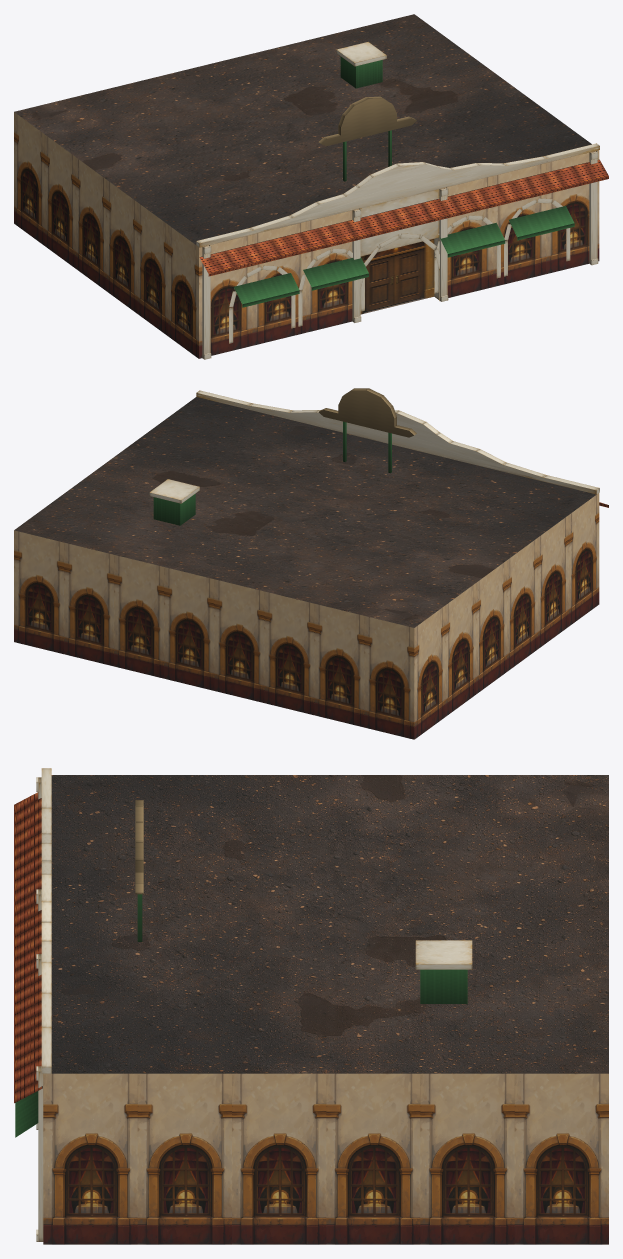
File: LM_BrownDerby.fbx
3 renders of one model, top to bottom at view 1: azimuth 30°, elevation 25°; view 2: azimuth 150°, elevation 25°; view 3: azimuth 270°, elevation 25°, orthographic. The views are drawn at different scales.
Visible parts, largest first — view 1: LM_BrownDerby; view 2: LM_BrownDerby; view 3: LM_BrownDerby.
Boxes of the visible parts, x1=… form: LM_BrownDerby: x1=14, y1=14, x2=608, y2=359; LM_BrownDerby: x1=14, y1=388, x2=608, y2=739; LM_BrownDerby: x1=14, y1=768, x2=608, y2=1244.
Bounding box in the file's own units: 30 × 25.25 × 13.55.
Materials: 1 (1 with a texture image).
